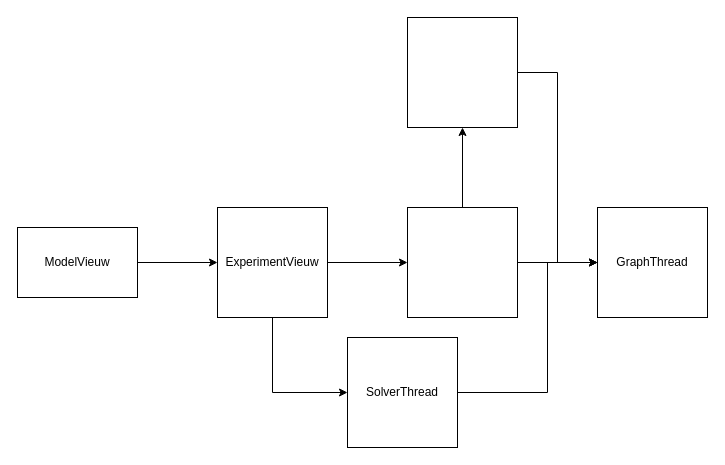
Some shapes in this 725 by 465 pixel diagram are drawn without their labels. Here are the shapes that lost their labels. From the top down, the centre of each, then its label:
the point at 462,72: ProgressThread
the point at 462,262: TableVieuwer
